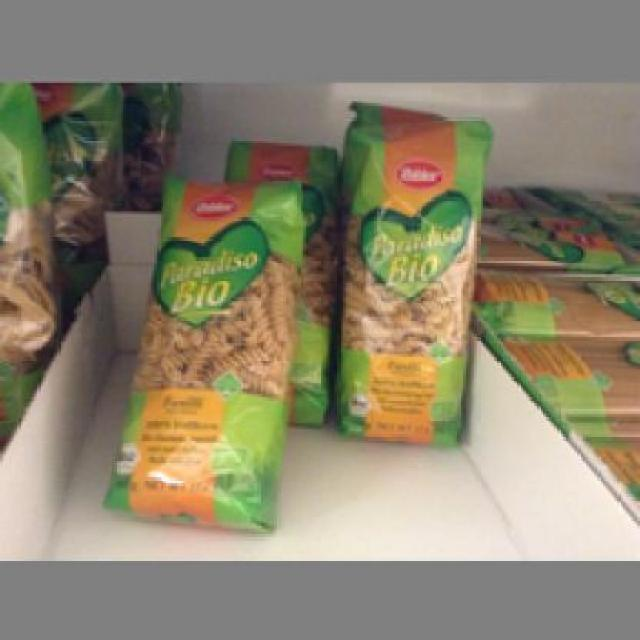Pasta: (97, 172, 306, 532), (328, 97, 492, 446)
